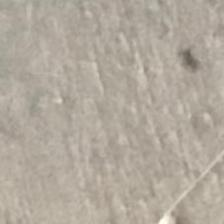Non_Crack: (20, 35, 204, 224)
